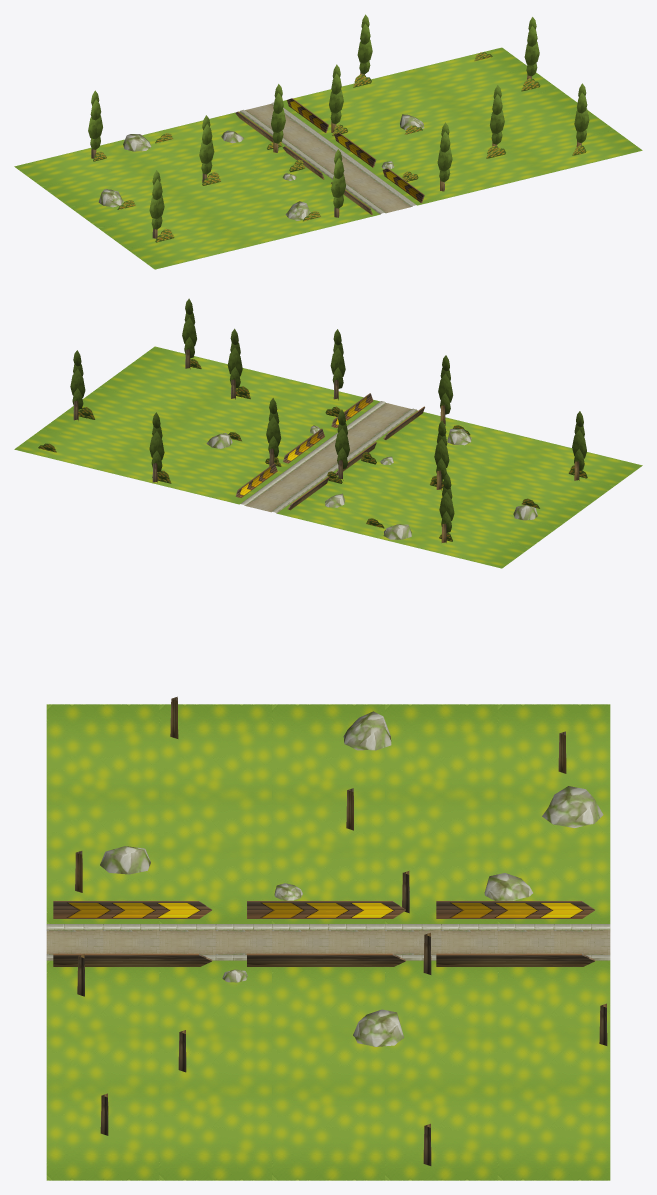
Rendered from VillageRoad01_Short.FBX.
3 views of the same model, one above another, from view 1: azimuth 30°, elevation 25°; view 2: azimuth 150°, elevation 25°; view 3: azimuth 270°, elevation 25° (orthographic). The views are drawn at different scales.
Visible parts, largest first — view 1: Road, Tree (×11), Fence (×3), Stone; view 2: Road, Tree (×11), Fence (×2); view 3: Road, Fence (×6), Stone (×5).
Part boxes in pixels (box(x1,y1,x2,y2)): Road: box(14, 47, 642, 269); Tree (×11): box(88, 14, 589, 238); Fence (×3): box(287, 98, 424, 202); Stone: box(123, 134, 151, 151); Road: box(14, 346, 642, 568); Tree (×11): box(70, 298, 586, 542); Fence (×2): box(235, 428, 324, 497); Road: box(46, 704, 610, 1180); Fence (×6): box(53, 901, 595, 966); Stone (×5): box(100, 711, 603, 1046).
Size of the model in its own units: 10000 by 1434 by 5000.
